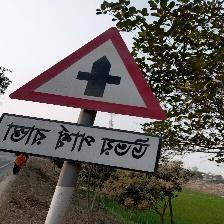Crossroad: (0, 26, 180, 173)
